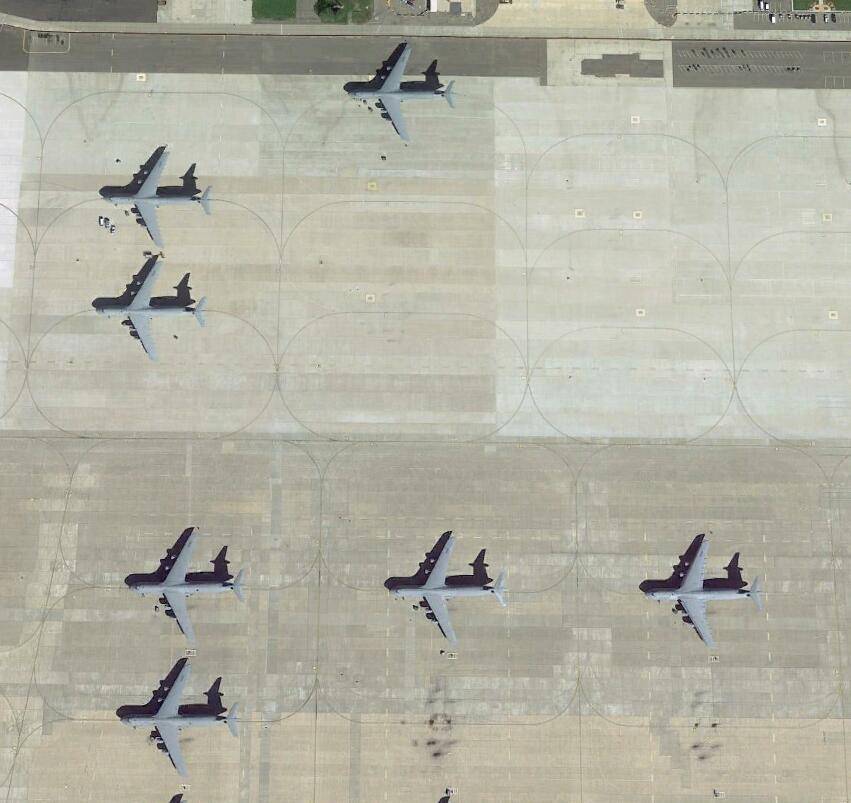A4: (120, 658, 241, 775), (645, 535, 762, 653), (388, 533, 508, 646), (128, 530, 248, 640), (98, 256, 210, 361), (102, 151, 214, 253), (346, 44, 459, 144)
